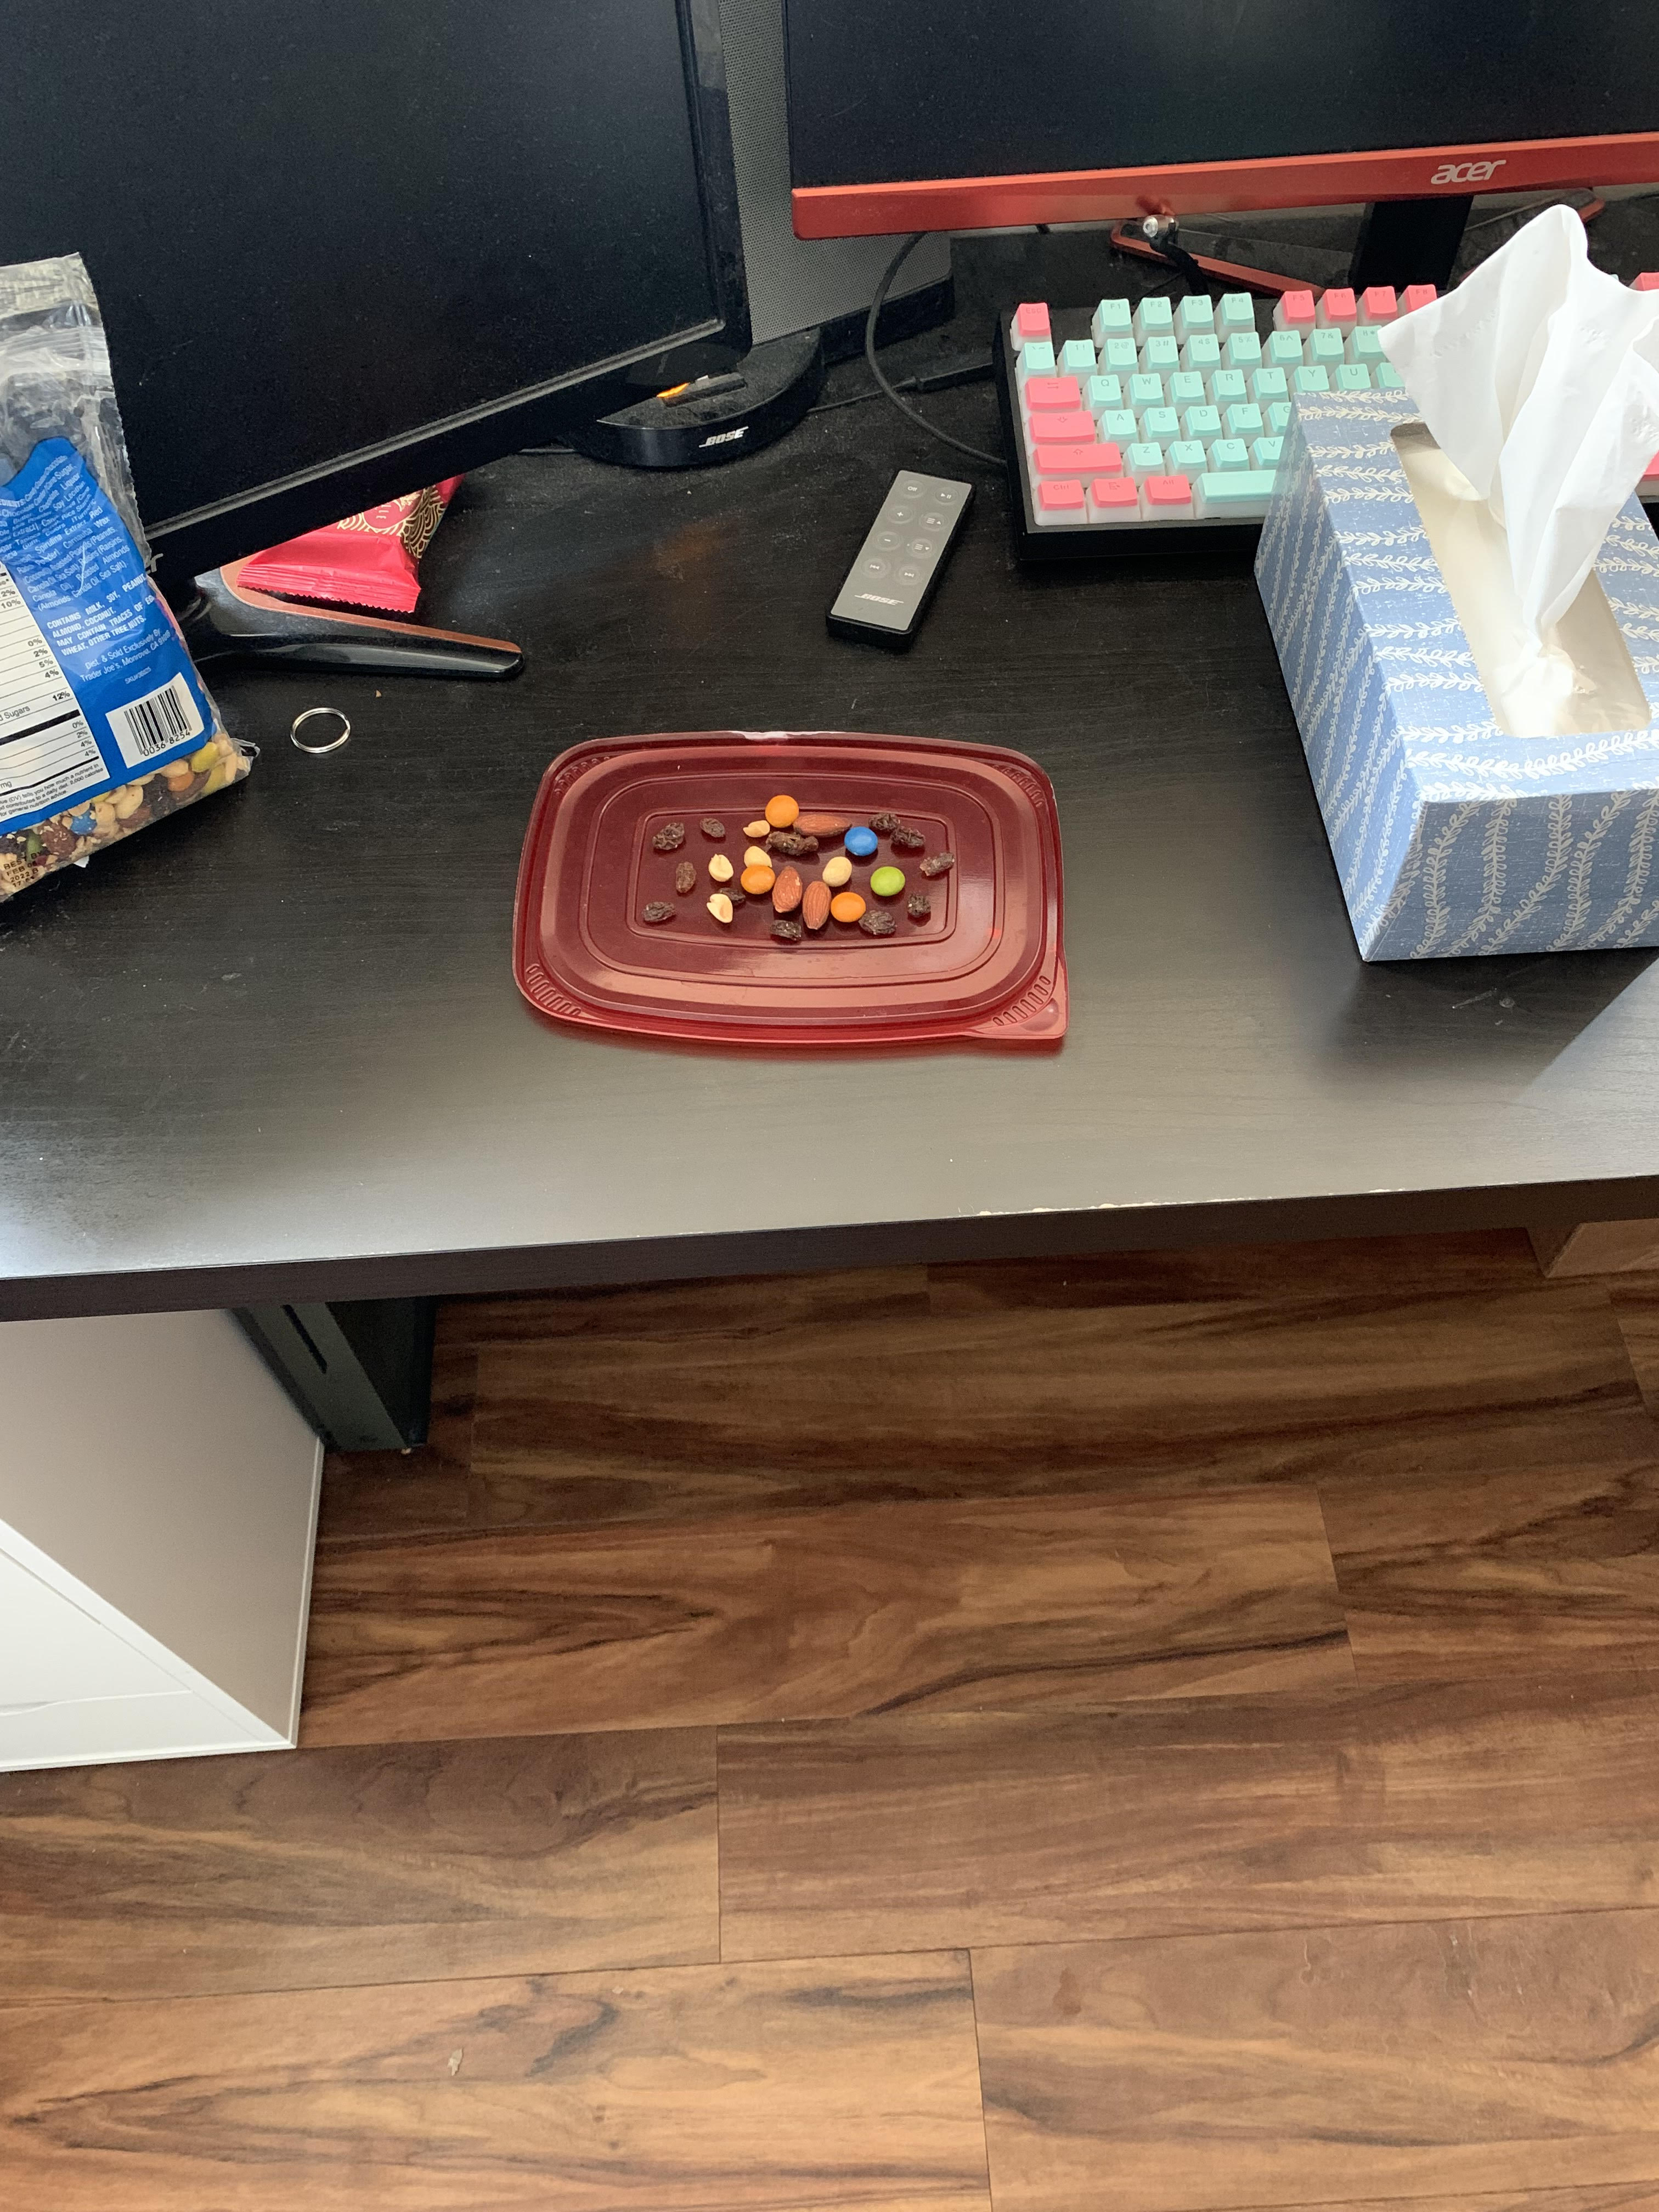almond: (772, 864, 803, 914), (802, 880, 831, 930), (795, 813, 852, 836)
mm: (765, 794, 800, 829), (870, 866, 906, 897), (739, 864, 775, 895), (843, 826, 878, 857), (831, 892, 866, 921)
peanut: (823, 855, 852, 887), (706, 892, 734, 923), (708, 853, 734, 881), (744, 845, 774, 869), (742, 820, 770, 838)
raisin: (859, 909, 896, 937), (652, 822, 685, 852), (918, 852, 955, 878), (892, 826, 925, 850), (769, 920, 802, 942), (765, 831, 798, 853), (674, 862, 697, 894), (870, 812, 901, 834), (643, 902, 676, 923), (906, 894, 932, 920), (788, 836, 819, 855), (716, 887, 746, 906), (699, 817, 725, 838)
